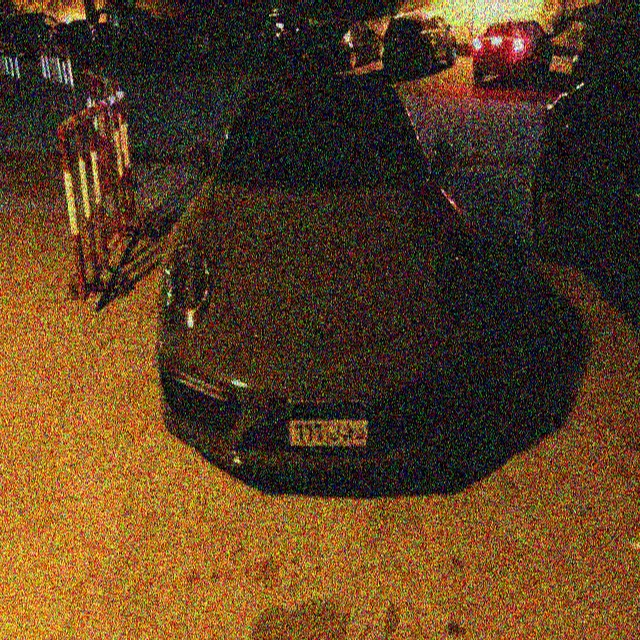License Plate: (283, 395, 372, 451)
